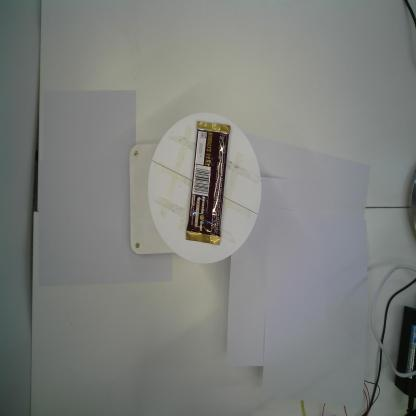Chocolate: (184, 118, 232, 249)
